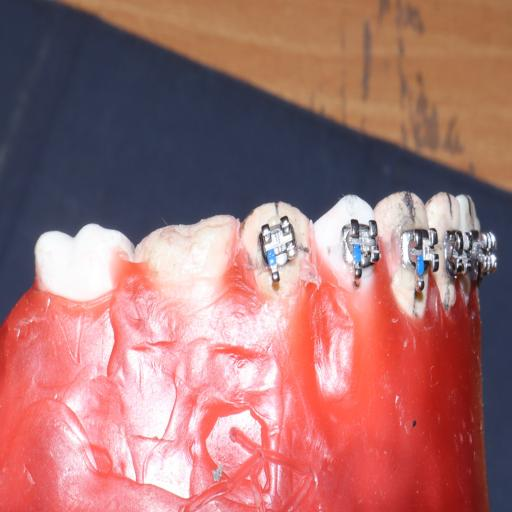incorrect_brace: (259, 219, 295, 268)
